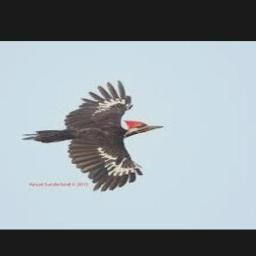Woodpecker: (21, 79, 162, 191)
